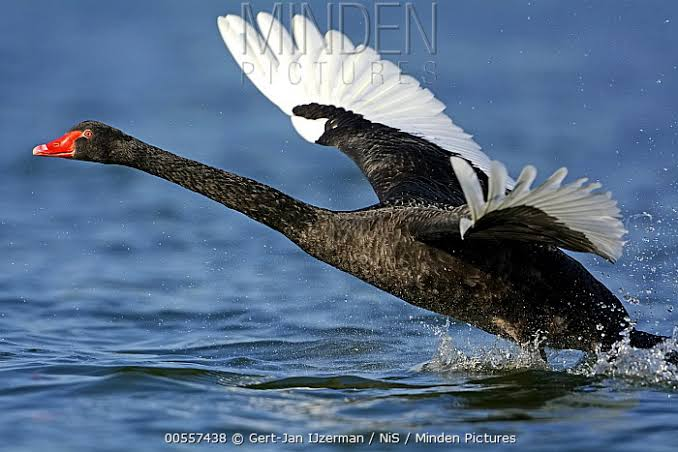black_swan: (28, 6, 678, 376)
